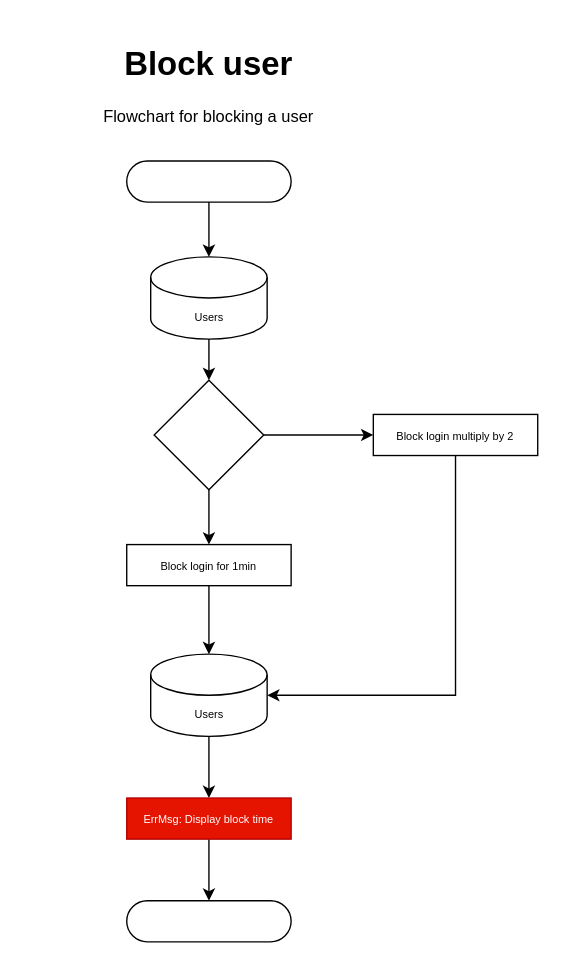
The diagram is 562 pixels wide and 970 high, and some of its shapes have lost their labels. Each missing label, with the box of its shape:
Already blocked: (153, 379, 264, 490)
End: (125, 899, 291, 942)
Start: (125, 160, 291, 202)
